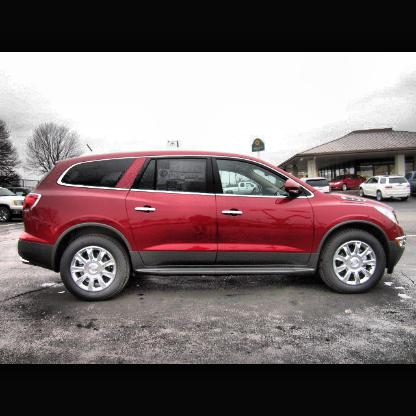Buick Enclave SUV 2012: (18, 149, 409, 304)
